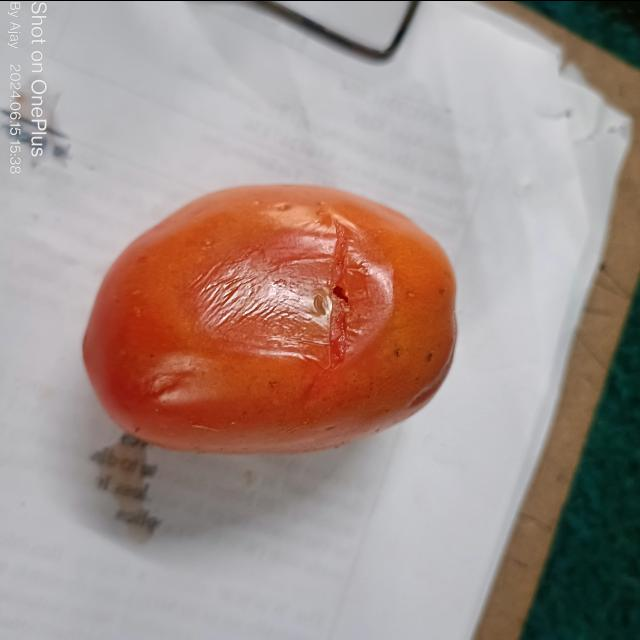Botrytis: (183, 212, 396, 358)
